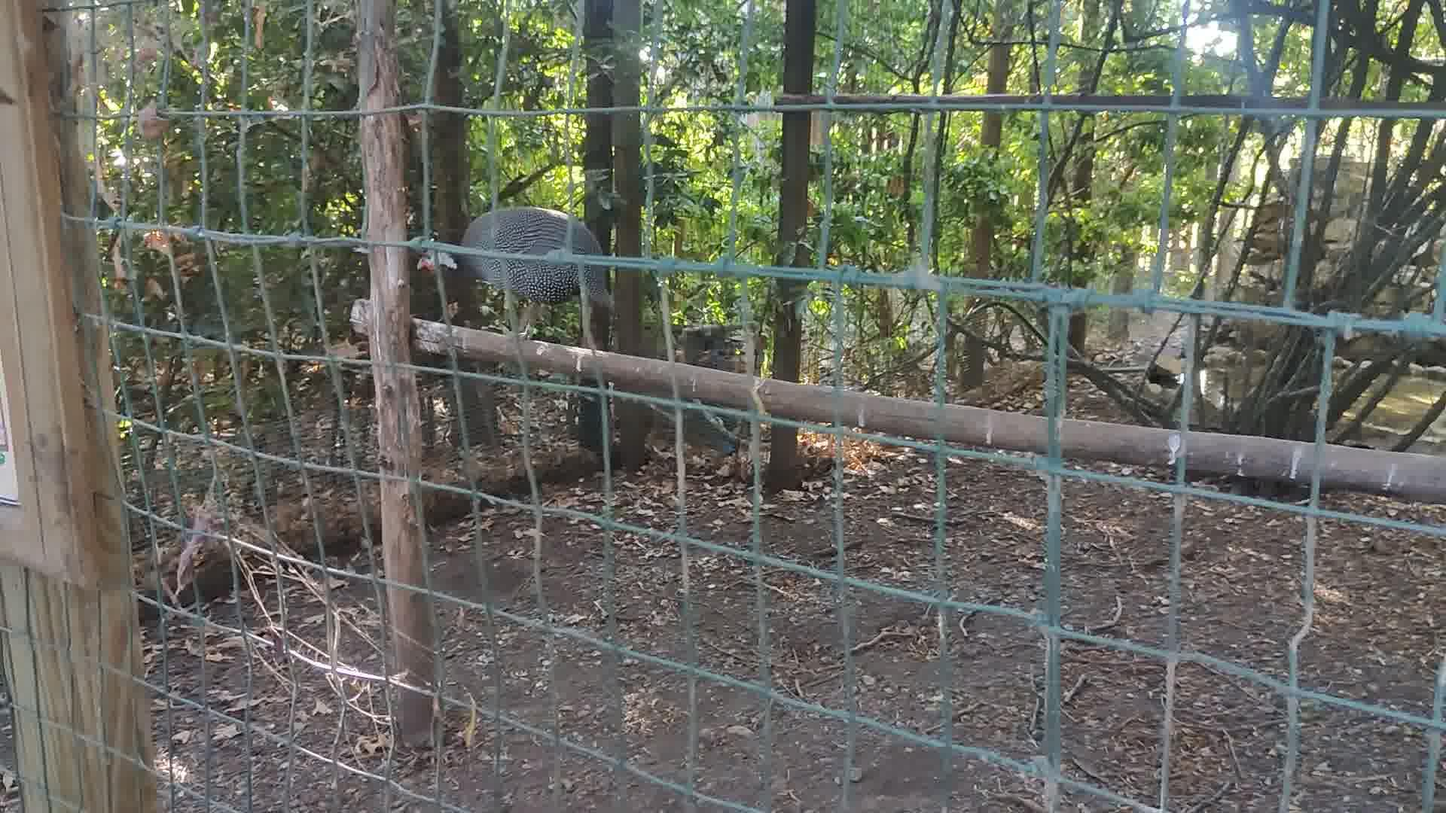apple: (417, 206, 605, 337)
